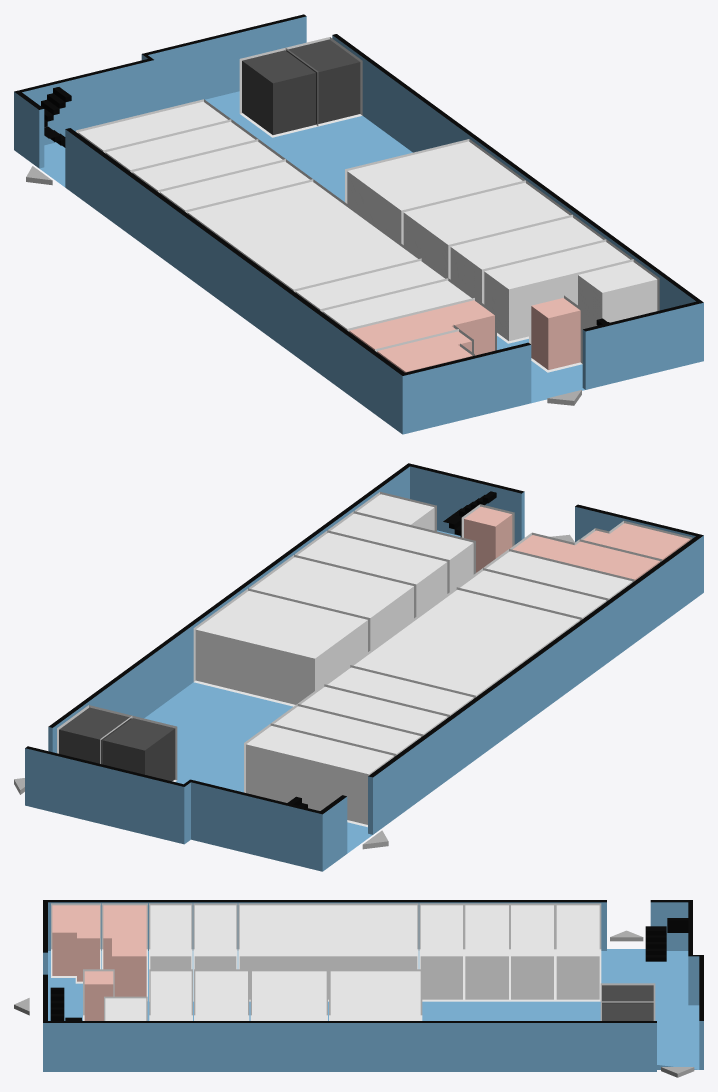
The picture shows the model from 3 angles, top to bottom: view 1: azimuth 30°, elevation 25°; view 2: azimuth 150°, elevation 25°; view 3: azimuth 270°, elevation 25°; orthographic projection. The views are drawn at different scales.
Visible parts, largest first — view 1: object, room_3_1_12, エレベーター_3_1_1, room_3_1_2, room_3_1_9, room_3_1_11, room_3_1_10, room_3_1_1, トイレ_3_1_2, room_3_1_3, room_3_1_4, room_3_1_6 (+10 smaller); view 2: object, room_3_1_2, room_3_1_12, room_3_1_6, room_3_1_9, エレベーター_3_1_1, room_3_1_10, room_3_1_11, room_3_1_5, room_3_1_4, room_3_1_8, room_3_1_3 (+9 smaller); view 3: object, room_3_1_12, room_3_1_2, room_3_1_4, room_3_1_6, room_3_1_5, room_3_1_3, トイレ_3_1_2, room_3_1_9, トイレ_3_1_1, room_3_1_8, room_3_1_7 (+21 smaller).
Part boxes in pixels (<box>): object: <box>14,14,703,434</box>; room_3_1_12: <box>187,181,417,290</box>; エレベーター_3_1_1: <box>242,39,360,134</box>; room_3_1_2: <box>347,141,522,242</box>; room_3_1_9: <box>403,183,569,277</box>; room_3_1_11: <box>484,241,629,340</box>; room_3_1_10: <box>450,217,602,302</box>; room_3_1_1: <box>578,261,657,328</box>; トイレ_3_1_2: <box>349,300,494,355</box>; room_3_1_3: <box>160,161,309,211</box>; room_3_1_4: <box>132,141,282,191</box>; room_3_1_6: <box>78,101,227,151</box>; object: <box>25,463,703,871</box>; room_3_1_2: <box>195,591,367,704</box>; room_3_1_12: <box>354,589,579,696</box>; room_3_1_6: <box>246,726,393,824</box>; room_3_1_9: <box>251,557,413,649</box>; エレベーター_3_1_1: <box>59,707,175,781</box>; room_3_1_10: <box>297,532,447,616</box>; room_3_1_11: <box>331,513,473,591</box>; room_3_1_5: <box>274,706,420,755</box>; room_3_1_4: <box>301,686,447,735</box>; room_3_1_8: <box>460,570,606,618</box>; room_3_1_3: <box>327,667,473,715</box>; object: <box>43,900,703,1071</box>; room_3_1_12: <box>239,905,417,999</box>; room_3_1_2: <box>330,971,420,1020</box>; room_3_1_4: <box>465,905,508,999</box>; room_3_1_6: <box>556,905,599,999</box>; room_3_1_5: <box>511,905,553,999</box>; room_3_1_3: <box>420,905,462,999</box>; トイレ_3_1_2: <box>103,905,146,996</box>; room_3_1_9: <box>252,971,326,1020</box>; トイレ_3_1_1: <box>52,905,99,981</box>; room_3_1_8: <box>194,905,236,969</box>; room_3_1_7: <box>150,905,191,969</box>.
Size of the model in its own units: 1.29 by 0.2057 by 2.63.
